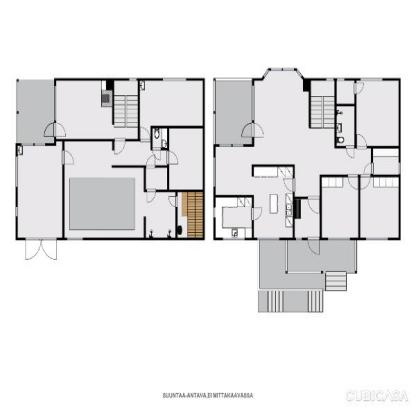door: (24, 236, 58, 264), (242, 122, 264, 138), (347, 174, 369, 188), (305, 236, 321, 255), (42, 124, 66, 136), (361, 159, 377, 176), (63, 148, 75, 167), (308, 197, 322, 212), (166, 150, 180, 165), (250, 206, 263, 221), (146, 189, 157, 206), (146, 155, 156, 173), (114, 138, 126, 153), (283, 178, 296, 190), (353, 82, 364, 95), (355, 135, 366, 148), (140, 127, 150, 140), (168, 196, 179, 207), (344, 145, 354, 157)
window: (263, 66, 301, 78), (162, 76, 188, 82), (20, 142, 46, 147), (213, 157, 217, 188), (15, 157, 19, 187), (251, 84, 254, 124), (364, 236, 388, 241), (360, 77, 381, 82), (219, 143, 242, 147), (324, 78, 344, 82), (257, 237, 280, 240), (69, 236, 83, 240), (326, 238, 350, 240), (15, 207, 19, 218), (398, 164, 402, 175), (129, 77, 137, 82), (213, 210, 217, 220), (295, 239, 302, 241)
zone: (213, 70, 368, 238), (63, 142, 176, 236), (259, 239, 359, 291), (56, 80, 137, 138), (18, 145, 62, 237), (140, 80, 202, 139), (354, 78, 398, 144), (320, 176, 360, 238), (361, 178, 399, 238), (215, 80, 250, 144), (18, 82, 54, 141), (168, 127, 202, 188), (260, 291, 324, 316), (309, 82, 333, 128), (178, 192, 202, 235), (335, 106, 355, 146), (335, 106, 354, 147), (372, 148, 398, 174), (336, 79, 356, 103), (336, 78, 353, 104), (153, 129, 167, 146)
